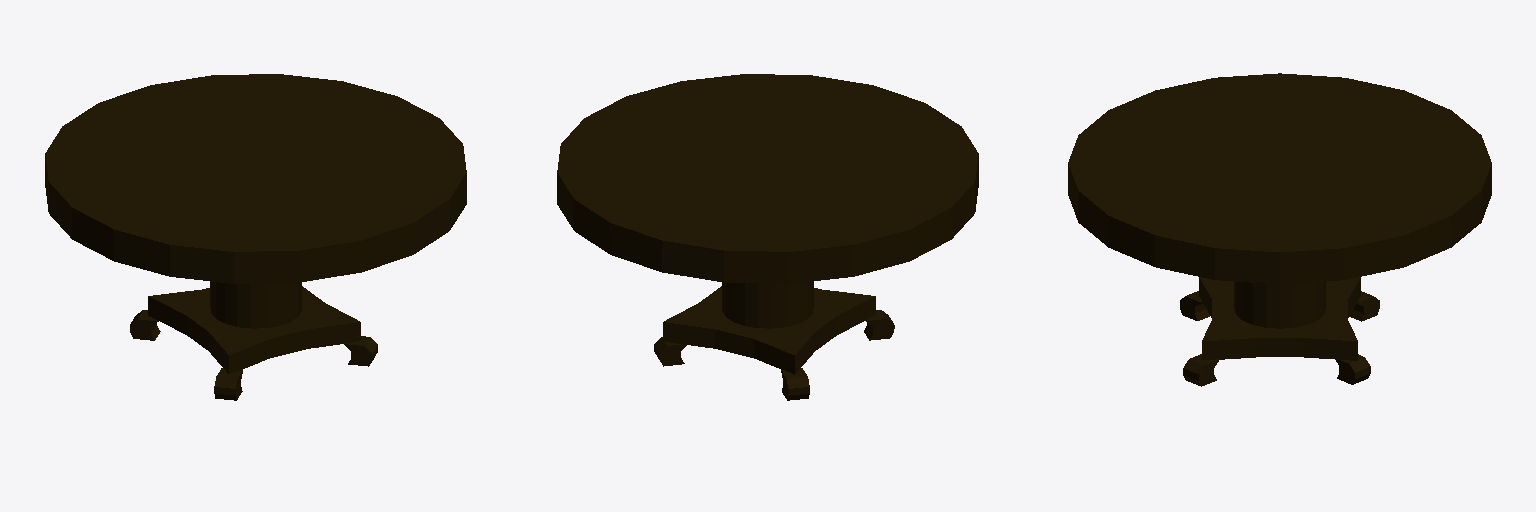
File: TableTexture.obj
3 views of the same model, side by side, from view 1: azimuth 30°, elevation 25°; view 2: azimuth 150°, elevation 25°; view 3: azimuth 270°, elevation 25° (orthographic).
Parts seen in each view (by area): view 1: table, base, foot4, foot5, foot2; view 2: table, base, foot2, foot4, foot3; view 3: table, base, foot5, foot3, foot4, foot2.
Part boxes in pixels (bbox=[...]): table: bbox=[45, 74, 466, 328]; base: bbox=[148, 286, 360, 373]; foot4: bbox=[214, 368, 242, 400]; foot5: bbox=[344, 336, 377, 366]; foot2: bbox=[130, 310, 160, 340]; table: bbox=[557, 74, 978, 328]; base: bbox=[663, 286, 875, 374]; foot2: bbox=[781, 368, 809, 400]; foot4: bbox=[864, 310, 894, 340]; foot3: bbox=[654, 337, 686, 366]; table: bbox=[1068, 73, 1491, 328]; base: bbox=[1199, 277, 1360, 360]; foot5: bbox=[1183, 354, 1219, 386]; foot3: bbox=[1336, 354, 1370, 384]; foot4: bbox=[1180, 291, 1209, 320]; foot2: bbox=[1349, 291, 1379, 321].
Bounding box in the file's own units: 6 × 2.91 × 6.